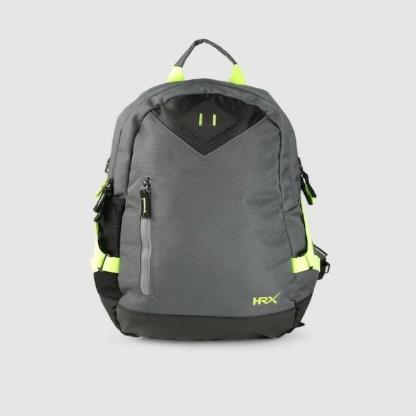bag: (85, 35, 334, 346)
